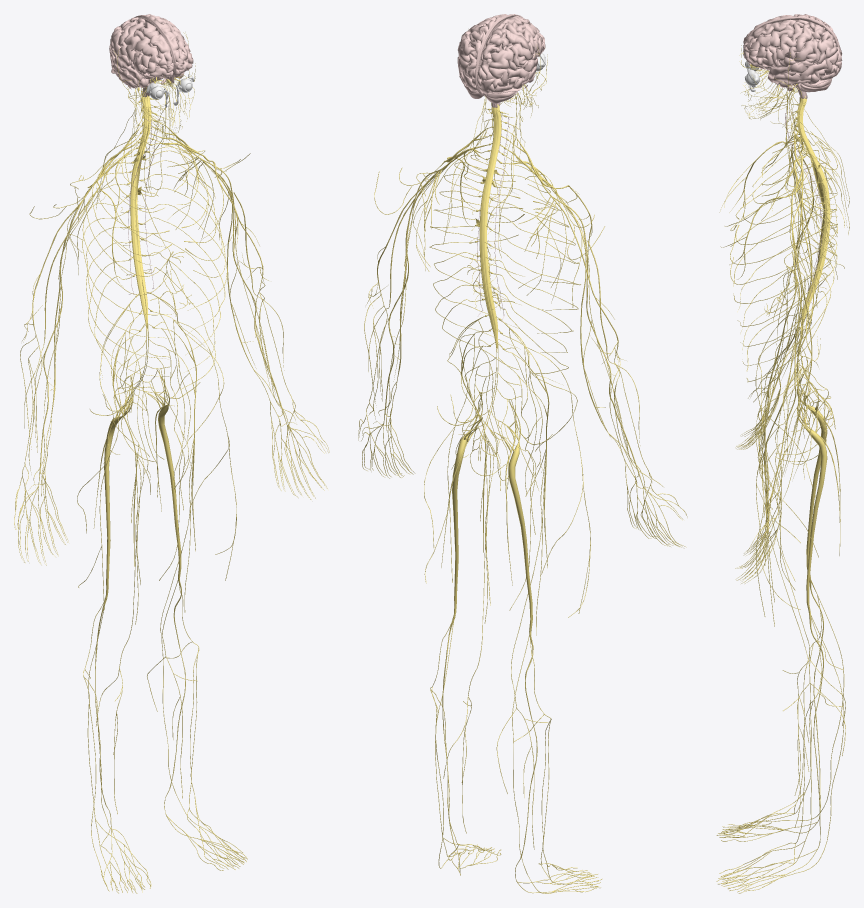
File: nervous.glb
3 views of the same model, side by side, from view 1: azimuth 30°, elevation 25°; view 2: azimuth 150°, elevation 25°; view 3: azimuth 270°, elevation 25° (orthographic). The views are drawn at different scales.
Visible parts, largest first — view 1: NRV.intercostal_nerves.R, NRV.spinal_dura.C, NRV.intercostal_nerves.L, NRV.sciatic_nerve.R, NRV.sciatic_nerve.L; view 2: NRV.spinal_dura.C, NRV.intercostal_nerves.L, NRV.intercostal_nerves.R, NRV.sciatic_nerve.R, NRV.sciatic_nerve.L; view 3: NRV.spinal_dura.C, NRV.intercostal_nerves.L, NRV.intercostal_nerves.R, NRV.sciatic_nerve.L, NRV.sciatic_nerve.R, NRV.middle_frontal_gyrus.L, NRV.saphenous_nerve.L, NRV.lateral_femoral_cutaneous_nerve.L, NRV.median_nerve.L, NRV.saphenous_nerve.R, NRV.middle_temporal_gyrus.L, NRV.precentral_gyrus.L (+18 smaller).
Boxes of the visible parts, x1,y1,x2,y2 form: NRV.intercostal_nerves.R: (82, 148, 173, 392); NRV.spinal_dura.C: (130, 93, 151, 334); NRV.intercostal_nerves.L: (142, 143, 227, 389); NRV.sciatic_nerve.R: (104, 376, 132, 595); NRV.sciatic_nerve.L: (146, 369, 181, 577); NRV.spinal_dura.C: (475, 103, 501, 351); NRV.intercostal_nerves.L: (429, 154, 524, 369); NRV.intercostal_nerves.R: (491, 163, 580, 373); NRV.sciatic_nerve.R: (495, 399, 532, 632); NRV.sciatic_nerve.L: (452, 392, 481, 613); NRV.spinal_dura.C: (797, 96, 830, 330); NRV.intercostal_nerves.L: (730, 153, 837, 382); NRV.intercostal_nerves.R: (730, 140, 837, 371); NRV.sciatic_nerve.L: (797, 384, 827, 612); NRV.sciatic_nerve.R: (797, 370, 827, 576); NRV.middle_frontal_gyrus.L: (745, 29, 793, 62); NRV.saphenous_nerve.L: (761, 452, 845, 827); NRV.lateral_femoral_cutaneous_nerve.L: (755, 340, 818, 616); NRV.median_nerve.L: (769, 198, 802, 508); NRV.saphenous_nerve.R: (762, 423, 845, 795); NRV.middle_temporal_gyrus.L: (773, 59, 828, 83); NRV.precentral_gyrus.L: (776, 21, 804, 62).
Size of the model in its own units: 0.6673 by 1.69 by 0.2425.
